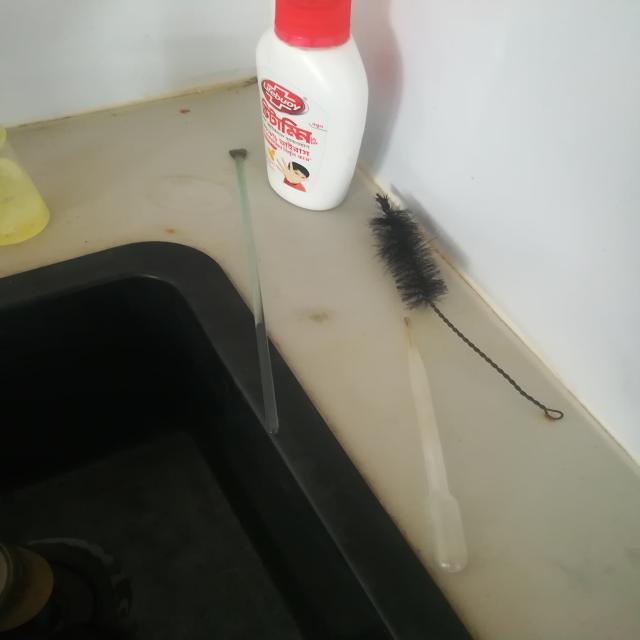Glass_Rod: (200, 107, 326, 445)
Pipette: (379, 288, 528, 606)
